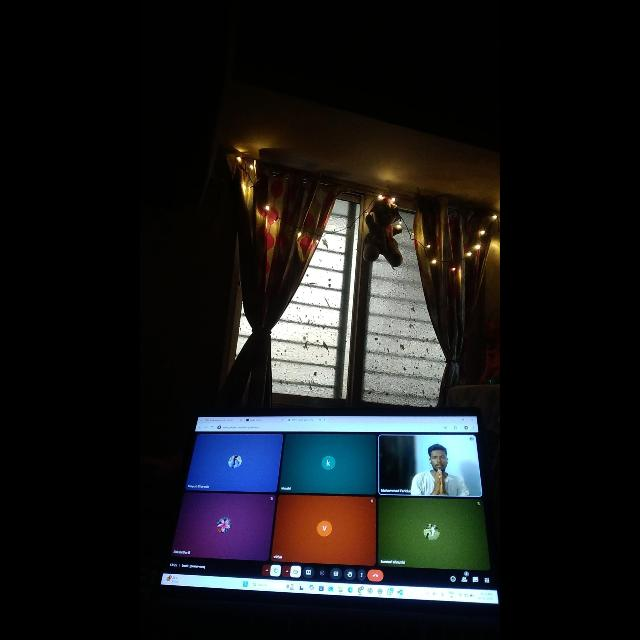laptop: (160, 388, 500, 640)
